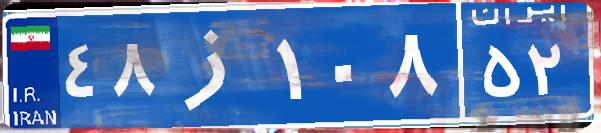0: (330, 28, 385, 110)
1: (273, 28, 330, 110)
2: (525, 38, 570, 115)
4: (57, 26, 110, 107)
5: (475, 38, 525, 113)
8: (385, 28, 445, 110), (110, 28, 158, 105)
ز: (158, 15, 273, 115)
